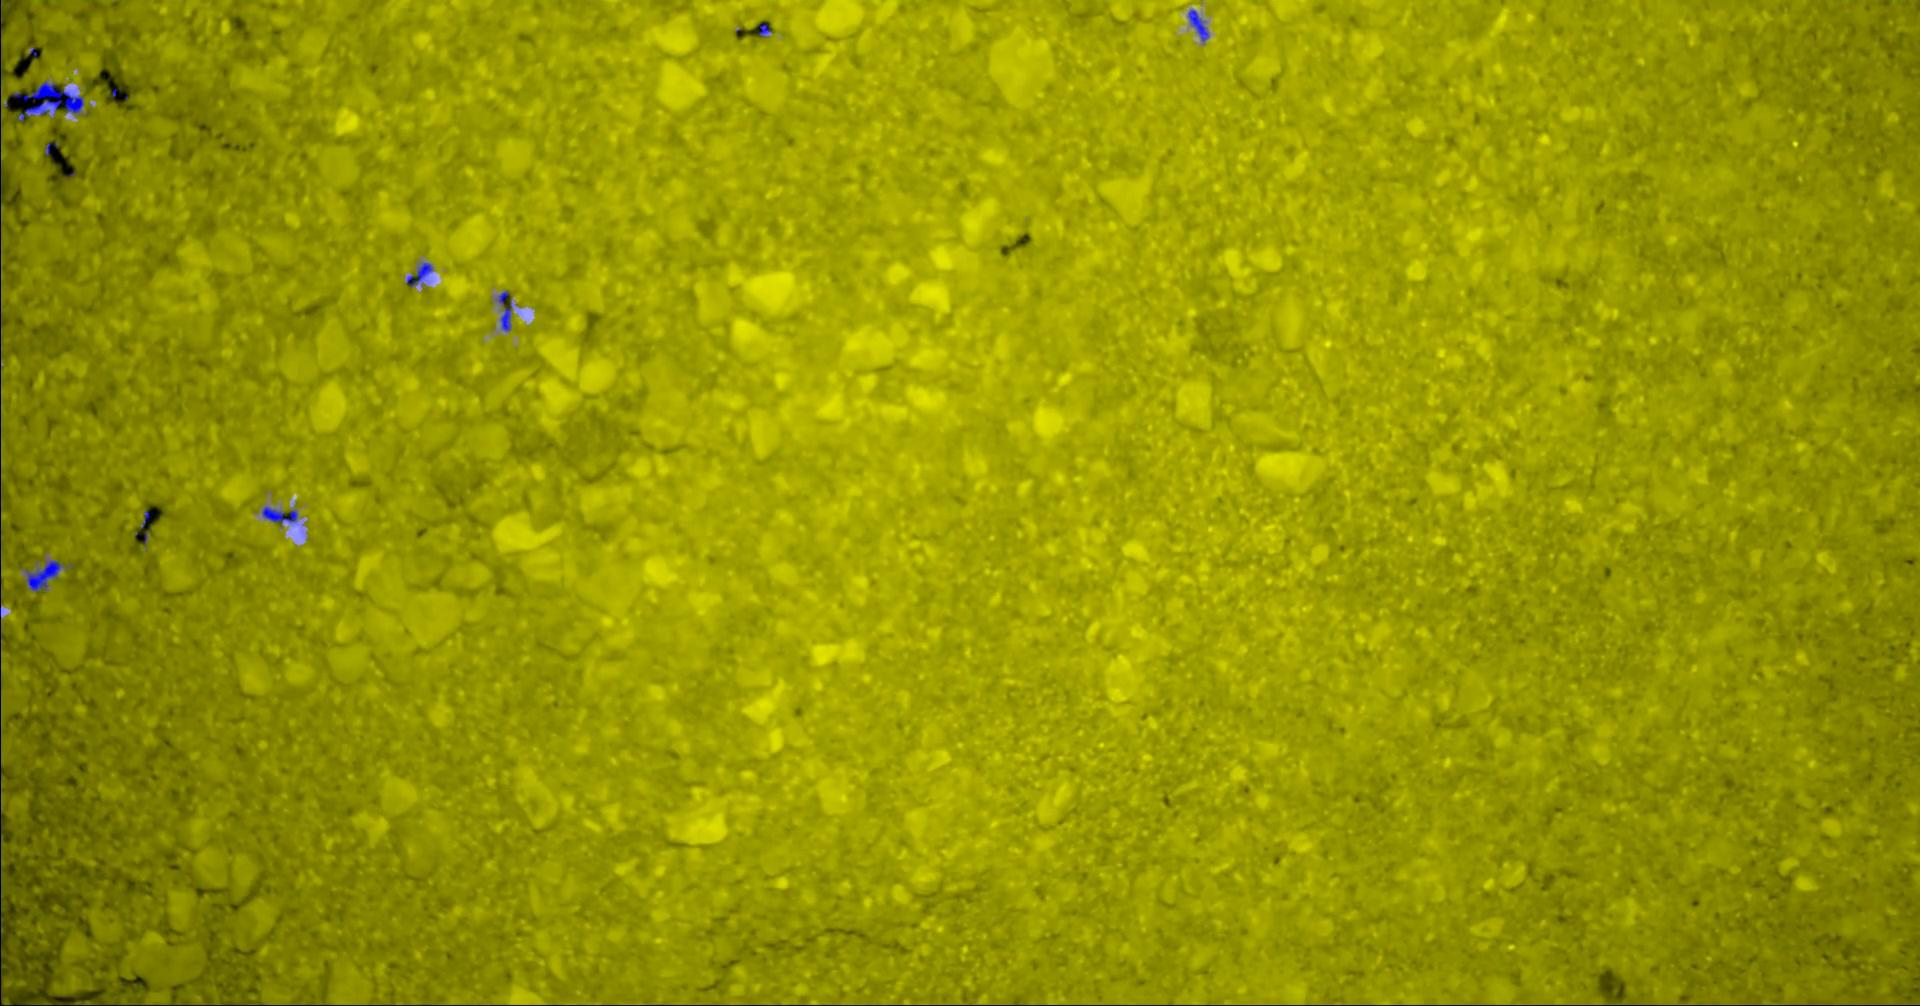ant: (25, 560, 61, 591), (262, 506, 297, 525), (1187, 9, 1208, 41), (406, 262, 432, 287), (500, 301, 512, 332), (758, 23, 770, 36)
